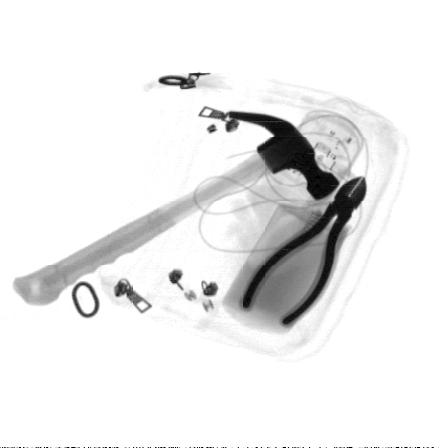Hammer: (12, 111, 340, 306)
Pliers: (239, 176, 366, 327)
